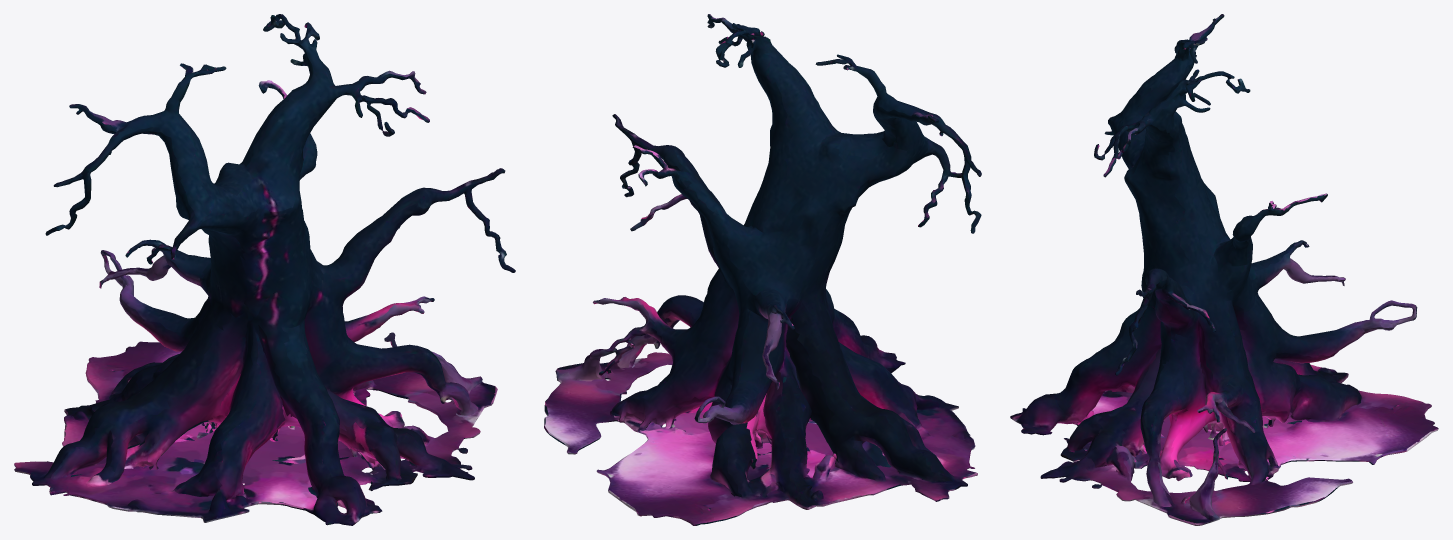
File: sea-root-se-generated-2026-05-17T19-46-57-788Z.medium.glb
3 views of the same model, side by side, from view 1: azimuth 30°, elevation 25°; view 2: azimuth 150°, elevation 25°; view 3: azimuth 270°, elevation 25° (orthographic). The views are drawn at different scales.
Visible parts, largest first — view 1: temp_mesh.ply; view 2: temp_mesh.ply; view 3: temp_mesh.ply.
Boxes of the visible parts, x1,y1,x2,y2 form: temp_mesh.ply: [14, 14, 515, 525]; temp_mesh.ply: [544, 14, 981, 525]; temp_mesh.ply: [1010, 14, 1438, 525].
Size of the model in its own units: 1.97 by 1.75 by 1.83.
1 material, 1 textured.
